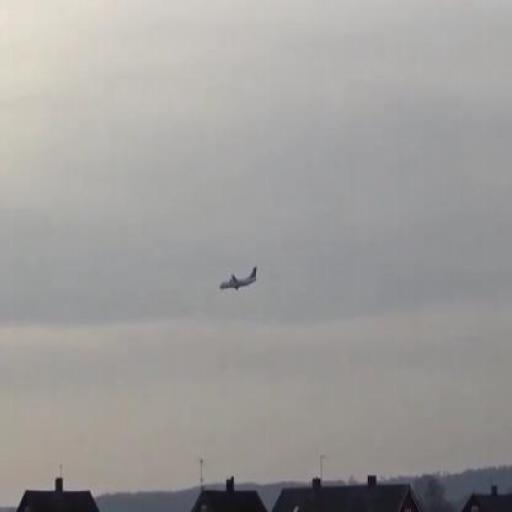aircraft: (218, 265, 258, 293)
